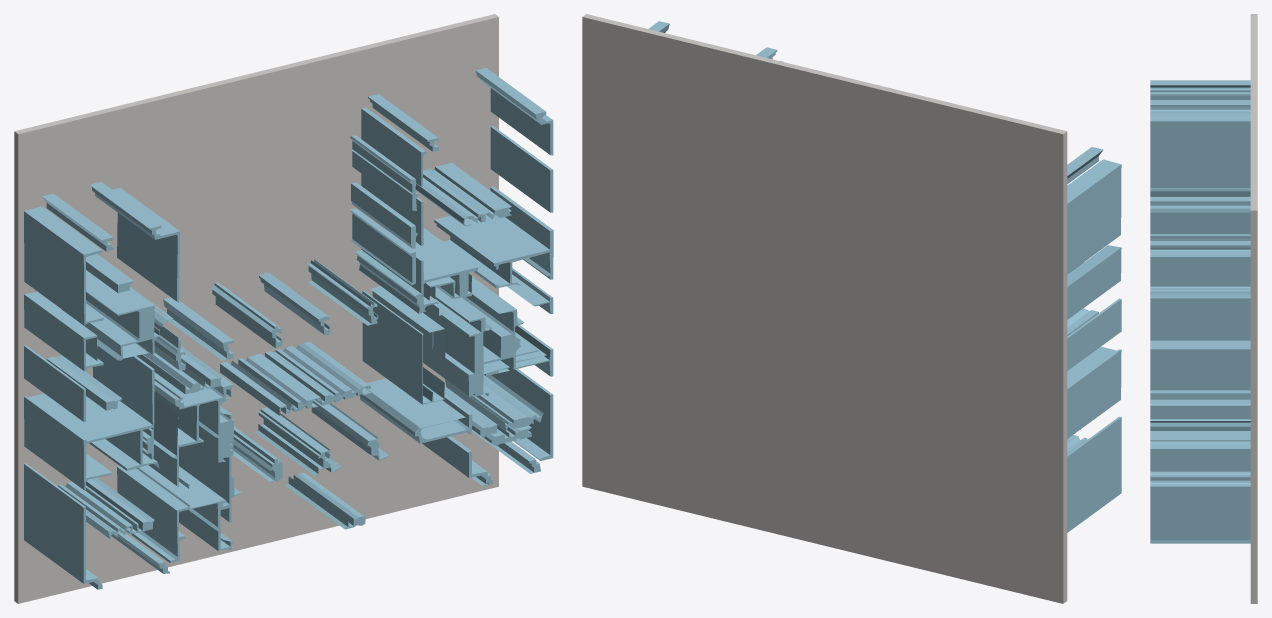
3 views of the same model, side by side, from view 1: azimuth 30°, elevation 25°; view 2: azimuth 150°, elevation 25°; view 3: azimuth 270°, elevation 25° (orthographic). The views are drawn at different scales.
Parts seen in each view (by area): view 1: world; view 2: world; view 3: world.
Part boxes in pixels (box(x1,y1,x2,y2)): world: box(14, 14, 553, 603); world: box(582, 14, 1121, 603); world: box(1150, 14, 1257, 603).
Bounding box in the file's own units: 10.23 × 9.55 × 2.35.
